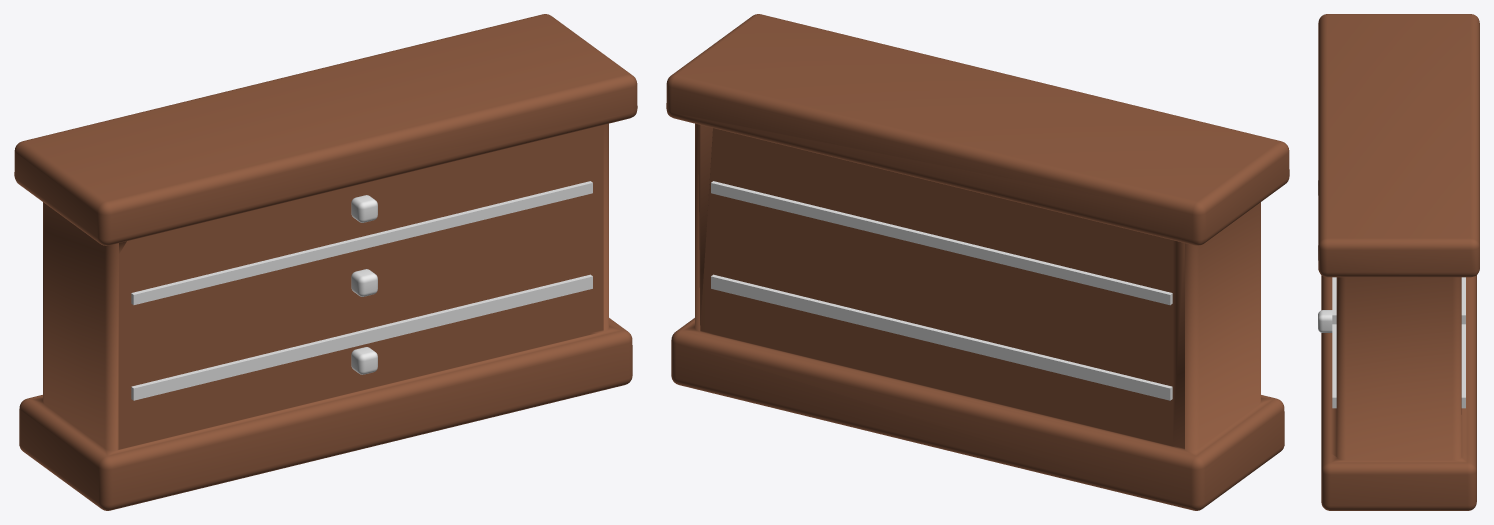
Rendered from Shelf-5.fbx.
The picture shows the model from 3 angles, left to right: view 1: azimuth 30°, elevation 25°; view 2: azimuth 150°, elevation 25°; view 3: azimuth 270°, elevation 25°; orthographic projection. The views are drawn at different scales.
Visible parts, largest first — view 1: Cube, Cube.004; view 2: Cube, Cube.004; view 3: Cube, Cube.004, Cube.001.
Part boxes in pixels (x1,y1,x2,y2): Cube: (14,14,637,510); Cube.004: (131,181,592,400); Cube: (666,14,1289,510); Cube.004: (711,181,1172,400); Cube: (1318,14,1479,510); Cube.004: (1332,277,1465,408); Cube.001: (1318,310,1332,332).
Bounding box in the file's own units: 3.02 × 1.66 × 0.8948.
